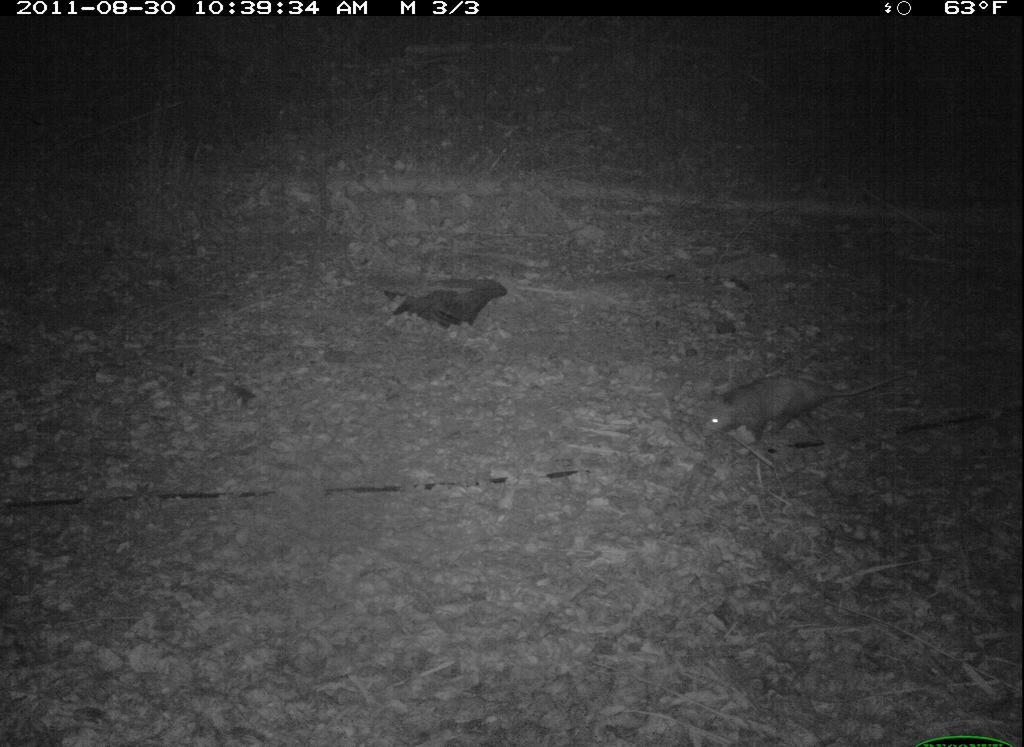opossum: (694, 358, 922, 455)
